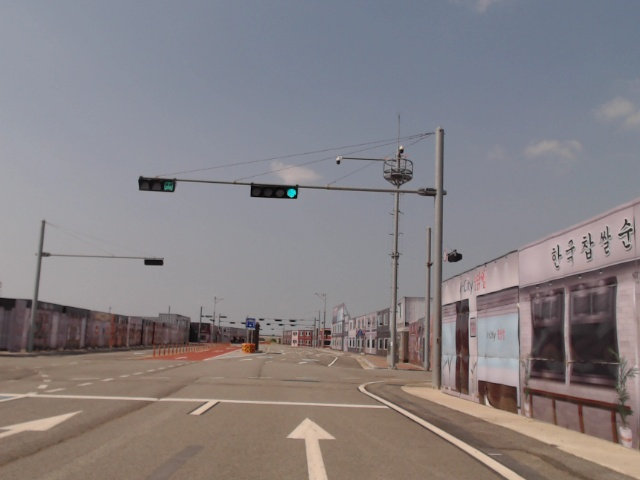straight_green_4: (251, 186, 299, 199)
